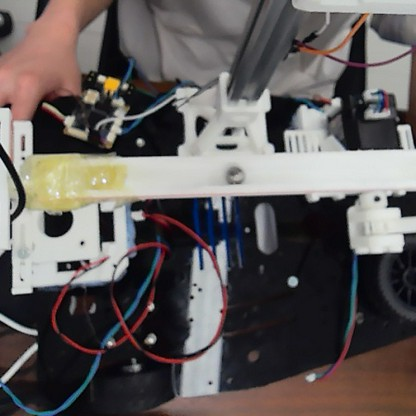ironball: (224, 163, 244, 185)
